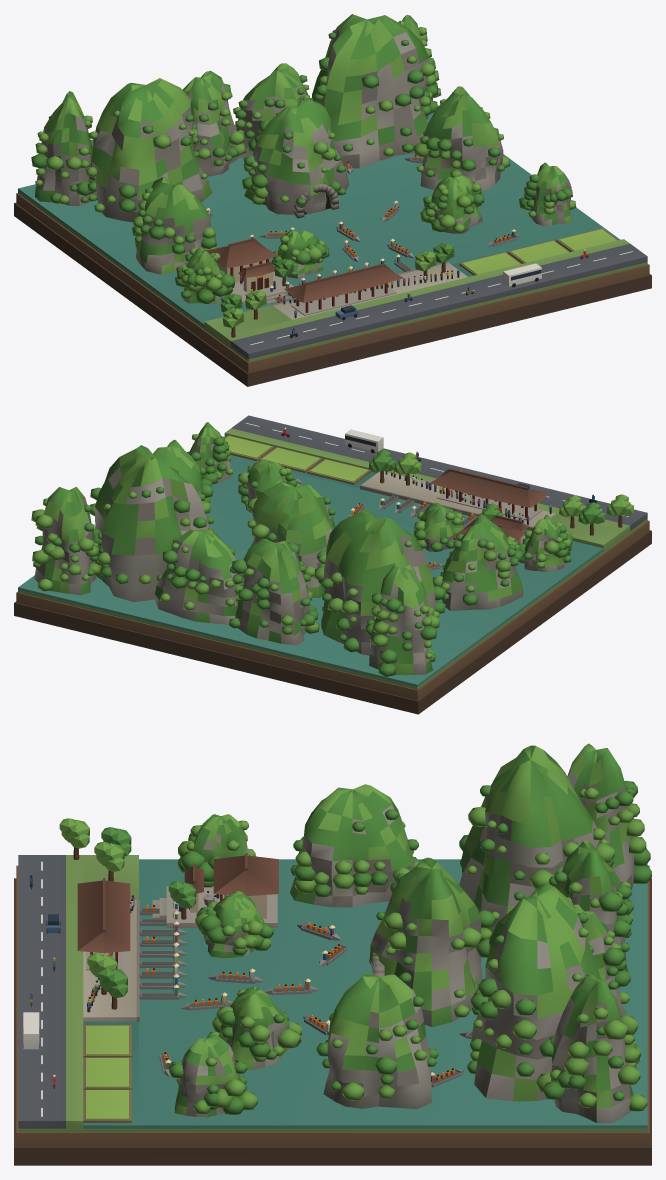
File: trang-an.glb
3 views of the same model, one above another, from view 1: azimuth 30°, elevation 25°; view 2: azimuth 150°, elevation 25°; view 3: azimuth 270°, elevation 25° (orthographic). The views are drawn at different scales.
Parts seen in each view (by area): view 1: TA_p_HC_bike_2E2E30; view 2: TA_p_HC_bike_2E2E30; view 3: TA_p_HC_bike_2E2E30.
Part boxes in pixels (box(x1,y1,x2,y2)): TA_p_HC_bike_2E2E30: box(14, 14, 651, 386); TA_p_HC_bike_2E2E30: box(14, 415, 651, 714); TA_p_HC_bike_2E2E30: box(14, 743, 651, 1165).
Size of the model in its own units: 92.57 by 33.93 by 92.
1 material, 1 textured.
